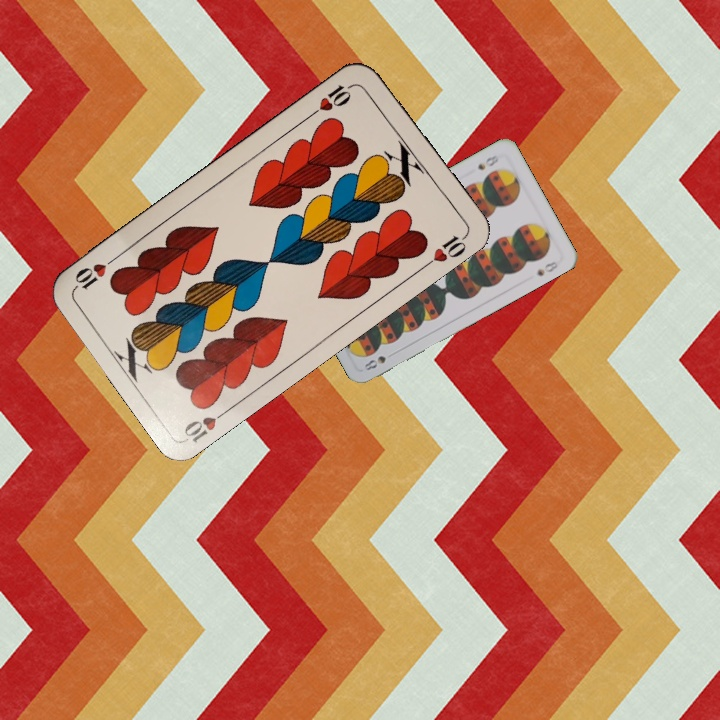H10: (179, 402, 234, 445), (306, 79, 358, 119)
S8: (473, 151, 501, 173), (360, 352, 388, 373)
